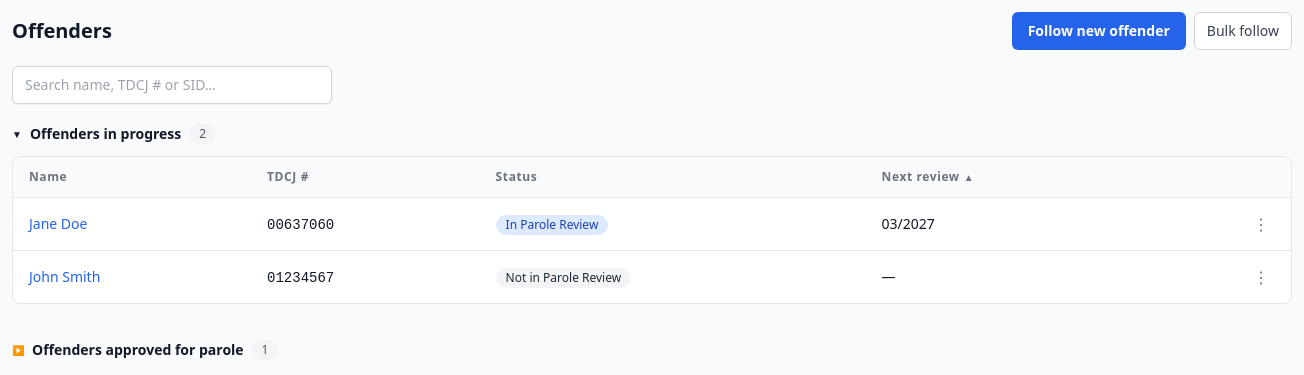
OffenderList › keeps the main section expanded by default and collapses it on click
Expected: the link "Jane Doe" is shown, [29, 214, 88, 233]
Click the button "▼ Offenders in progress 2": x=114, y=134 [12, 124, 216, 144]
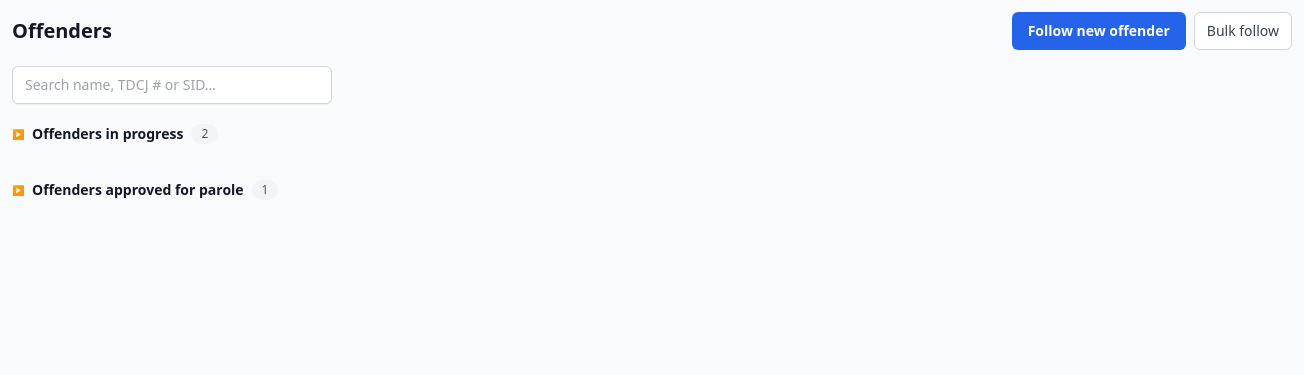
Expected: the button "▶ Offenders in progress 2" is collapsed
Expected: the link "Jane Doe" is gone
Expected: the link "John Smith" is gone
Click the button "▶ Offenders in progress 2": x=115, y=134 [12, 124, 218, 144]
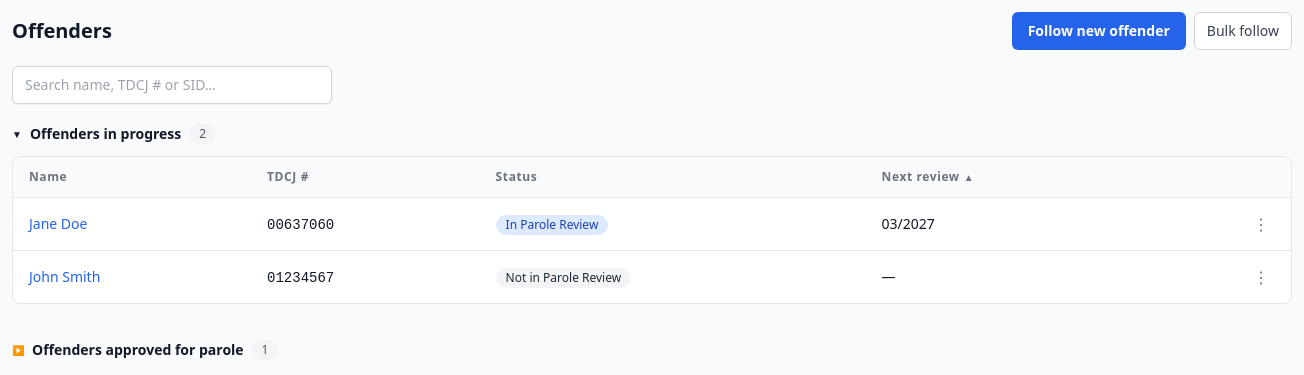
Expected: the button "▼ Offenders in progress 2" is expanded, [12, 124, 216, 144]
Expected: the link "Jane Doe" is shown, [29, 214, 88, 233]
